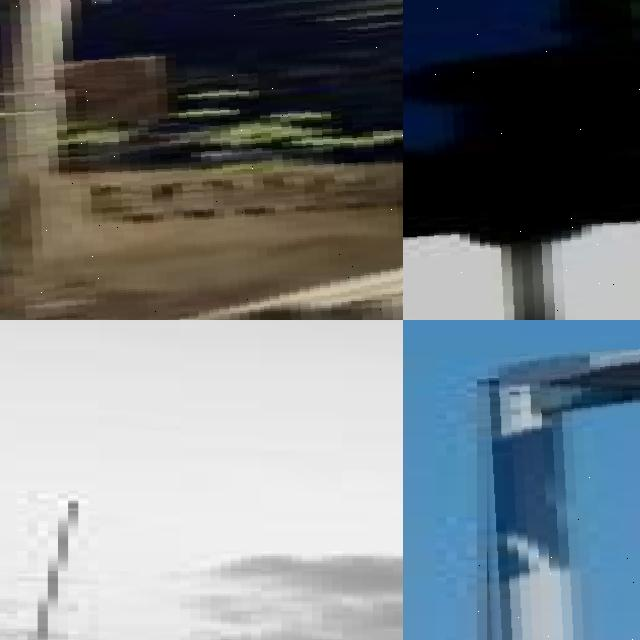street light: (0, 0, 403, 320), (403, 0, 640, 320), (477, 349, 640, 640)
